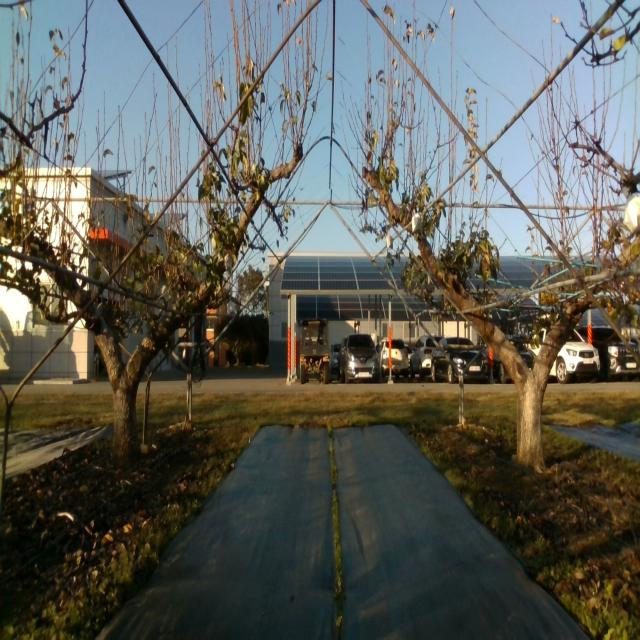pearbags: (621, 186, 640, 232), (412, 208, 422, 234)
